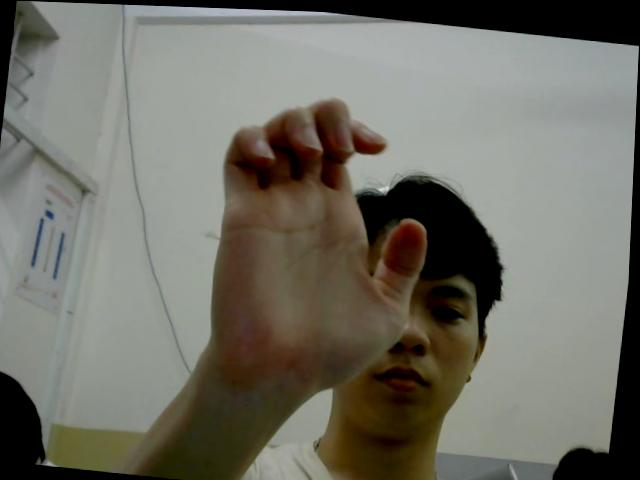E: (199, 81, 445, 395)
